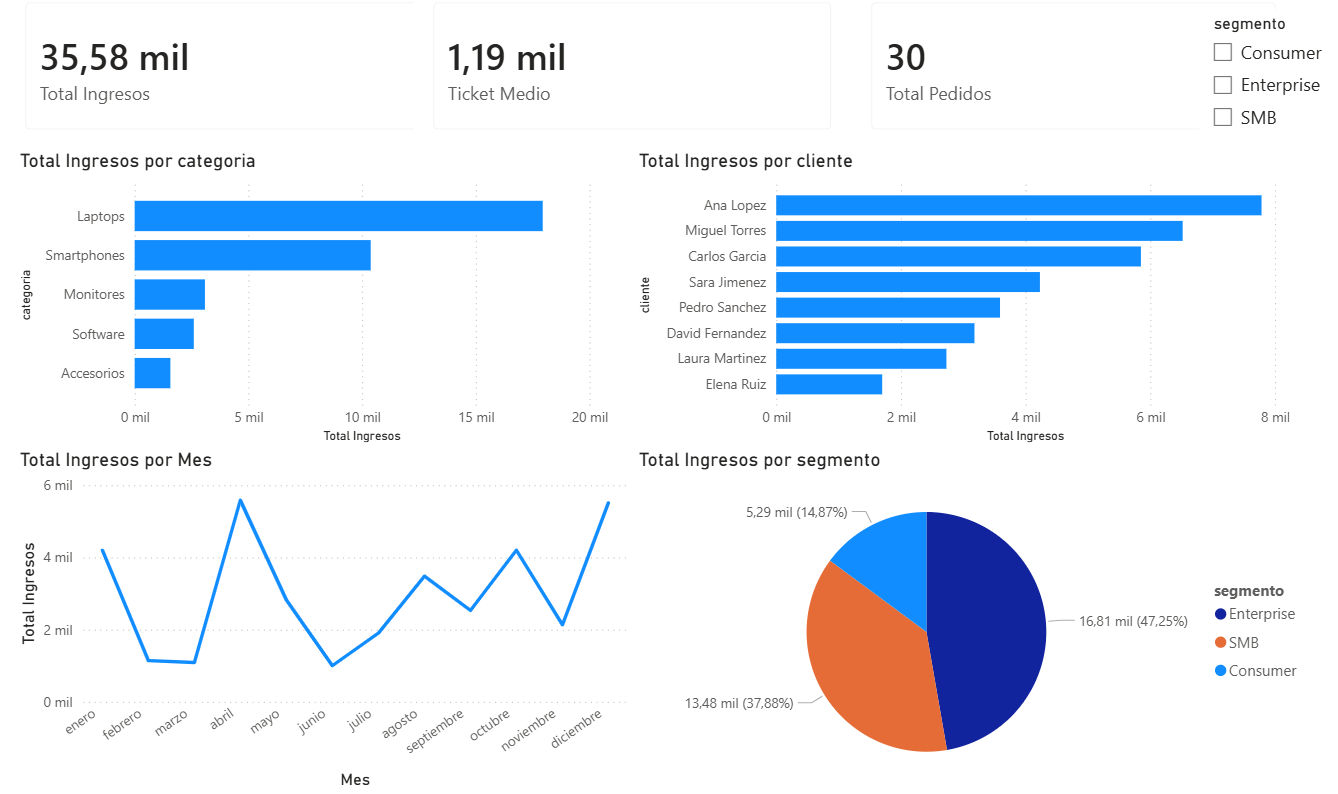

The dashboard page shown, as its layout file describes it:
{"tool":"powerbi","page":{"name":"Página 1","canvas":[1280,720],"ordinal":0},"visuals":[{"type":"cardVisual","fields":{"Data":["ventas_tech.Total Ingresos"]},"box":[9.7,0,389,147.6],"z":0},{"type":"cardVisual","fields":{"Data":["ventas_tech.Ticket Medio"]},"box":[371.7,0,387.9,147.6],"z":1},{"type":"cardVisual","fields":{"Data":["ventas_tech.Total Pedidos"]},"box":[759.6,0,393.3,147.6],"z":2},{"type":"barChart","fields":{"Category":["ventas_tech.categoria"],"Y":["ventas_tech.Total Ingresos"]},"box":[17.2,147.6,532.3,265.1],"z":3},{"type":"barChart","fields":{"Category":["ventas_tech.cliente"],"Y":["ventas_tech.Total Ingresos"]},"box":[565.7,147.6,587.2,265.1],"z":4},{"type":"lineChart","fields":{"Category":["ventas_tech.fecha.Variación.Jerarquía de fechas.Mes"],"Y":["ventas_tech.Total Ingresos"]},"box":[17.2,412.7,548.4,307.1],"z":5},{"type":"pieChart","fields":{"Category":["ventas_tech.segmento"],"Y":["ventas_tech.Total Ingresos"]},"box":[565.7,412.7,603.4,307.1],"z":6},{"type":"slicer","fields":{"Values":["ventas_tech.segmento"]},"box":[1067.7,22.6,212.3,125],"z":7}]}

Visuals, with their boxes on the page's 1280x720 design canvas (x1, y1, x2, y2). These are canvas units, not pixel positions in the 1338x794 screenshot, which may show the page scaled, cropped or inside an application window:
cardVisual - ventas_tech.Total Ingresos: rect(10, 0, 399, 148)
cardVisual - ventas_tech.Ticket Medio: rect(372, 0, 760, 148)
cardVisual - ventas_tech.Total Pedidos: rect(760, 0, 1153, 148)
barChart - ventas_tech.categoria x ventas_tech.Total Ingresos: rect(17, 148, 550, 413)
barChart - ventas_tech.cliente x ventas_tech.Total Ingresos: rect(566, 148, 1153, 413)
lineChart - ventas_tech.fecha.Variación.Jerarquía de fechas.Mes x ventas_tech.Total Ingresos: rect(17, 413, 566, 720)
pieChart - ventas_tech.segmento x ventas_tech.Total Ingresos: rect(566, 413, 1169, 720)
slicer - ventas_tech.segmento: rect(1068, 23, 1280, 148)
